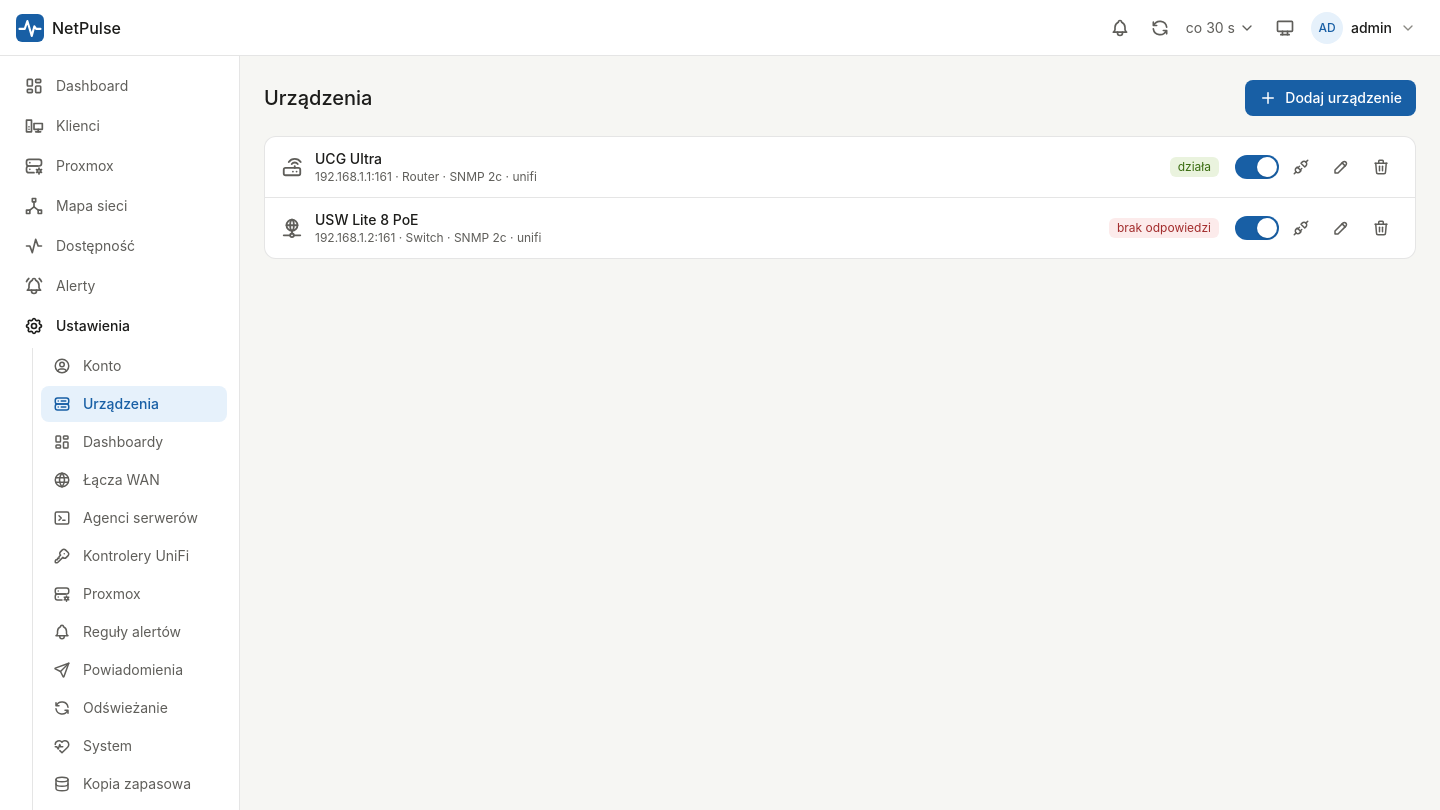
lista urządzeń › test SNMP zapisanego urządzenia pokazuje, co wykryto
Expected: the heading "Urządzenia" is shown, [264,84,372,112]
What coordinates should you click on to do the following:
click the button named "Testuj UCG Ultra"
I would click on:
 (1301, 167)
Its box is [1283,149,1319,185].
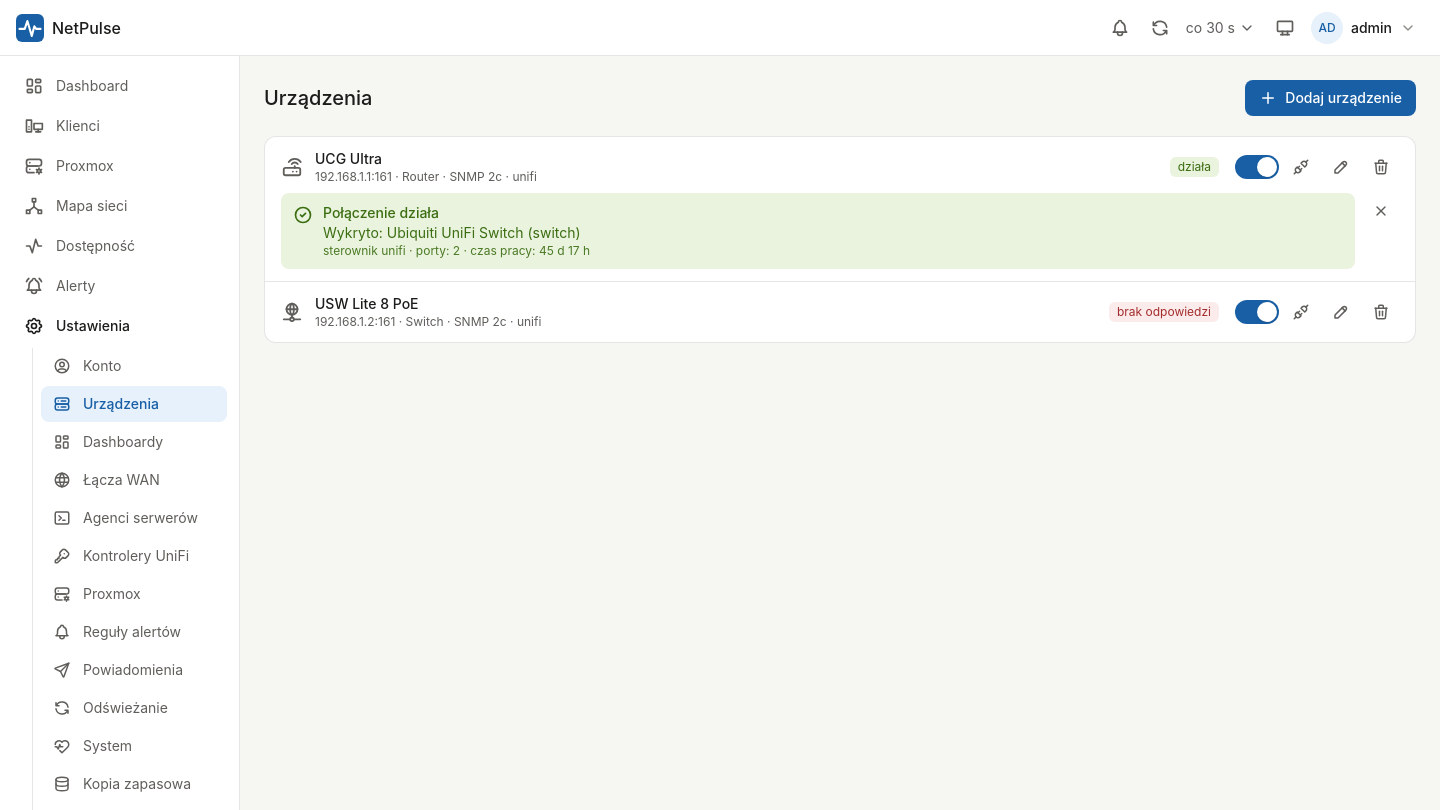
Expected: the text "Połączenie działa" is shown, [323,204,439,221]
Expected: the text "Wykryto: Ubiquiti UniFi Switch (switch)" is shown, [323,223,590,243]
Expected: the text "sterownik unifi · porty: 2 · czas pracy: 45 d 17 h" is shown, [323,243,590,259]
What coordinates should you click on to do the following:
click the button named "Ukryj wynik"
I would click on:
 (1381, 211)
Its box is [1363,193,1399,229].
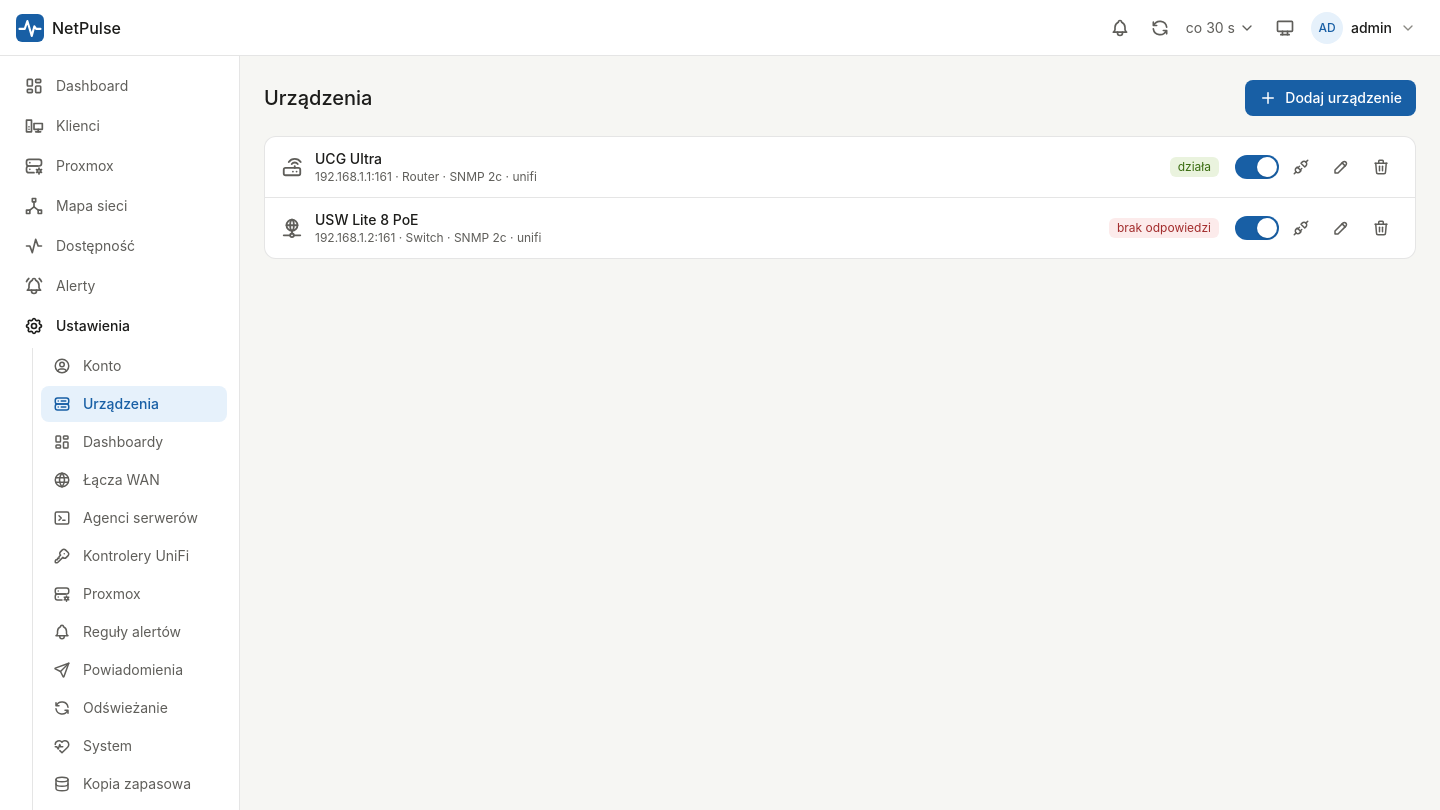
Expected: the text "Połączenie działa" is gone
